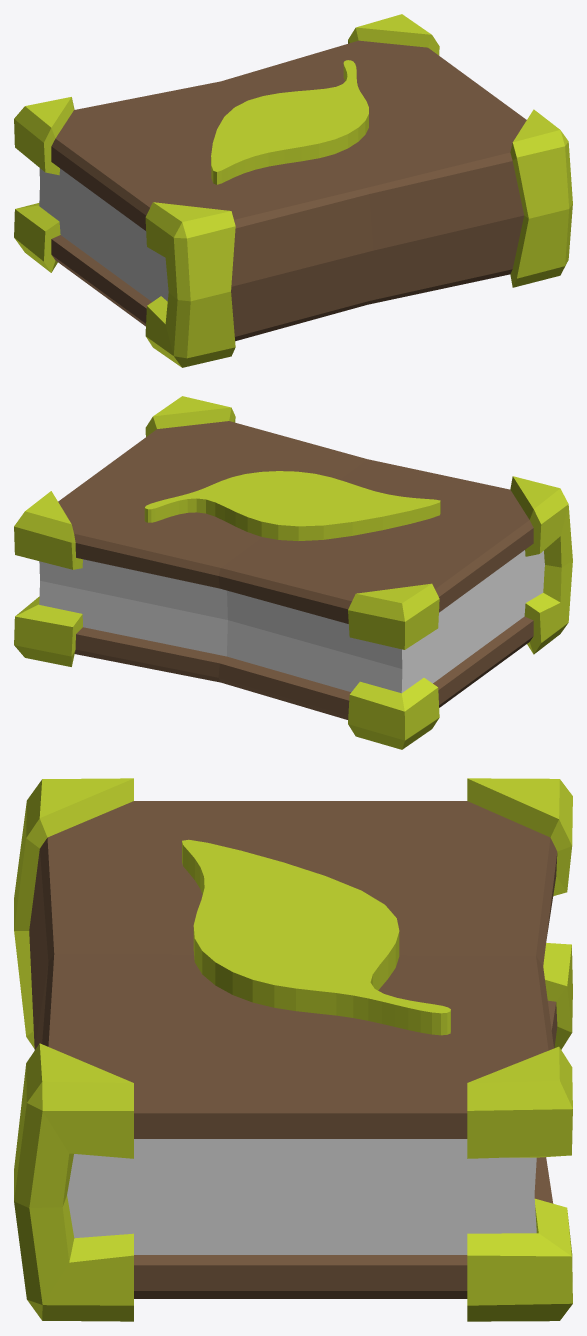
The picture shows the model from 3 angles, top to bottom: view 1: azimuth 30°, elevation 25°; view 2: azimuth 150°, elevation 25°; view 3: azimuth 270°, elevation 25°; orthographic projection. The views are drawn at different scales.
Visible parts, largest first — view 1: Book_Closed_Nature; view 2: Book_Closed_Nature; view 3: Book_Closed_Nature.
Boxes of the visible parts, x1,y1,x2,y2 form: Book_Closed_Nature: (14,14,572,367); Book_Closed_Nature: (14,396,572,749); Book_Closed_Nature: (14,778,572,1321).
Bounding box in the file's own units: 95.71 × 33.88 × 71.4.
